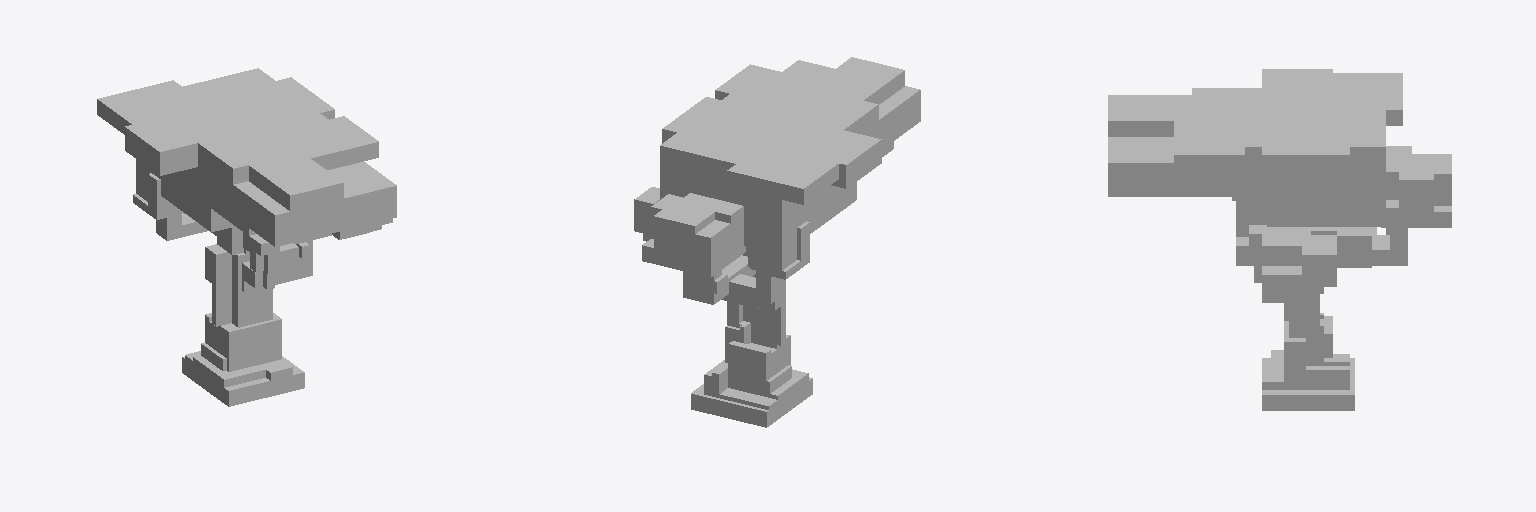
The model's file is tree.obj.
The picture shows the model from 3 angles: view 1: azimuth 30°, elevation 25°; view 2: azimuth 150°, elevation 25°; view 3: azimuth 270°, elevation 25°; orthographic projection.
Visible parts, largest first — view 1: object 1; view 2: object 1; view 3: object 1.
Boxes of the visible parts, x1,y1,x2,y2 form: object 1: [97, 68, 396, 406]; object 1: [634, 57, 920, 427]; object 1: [1108, 69, 1451, 410].
Bounding box in the file's own units: 5.5 × 6.8 × 7.8.